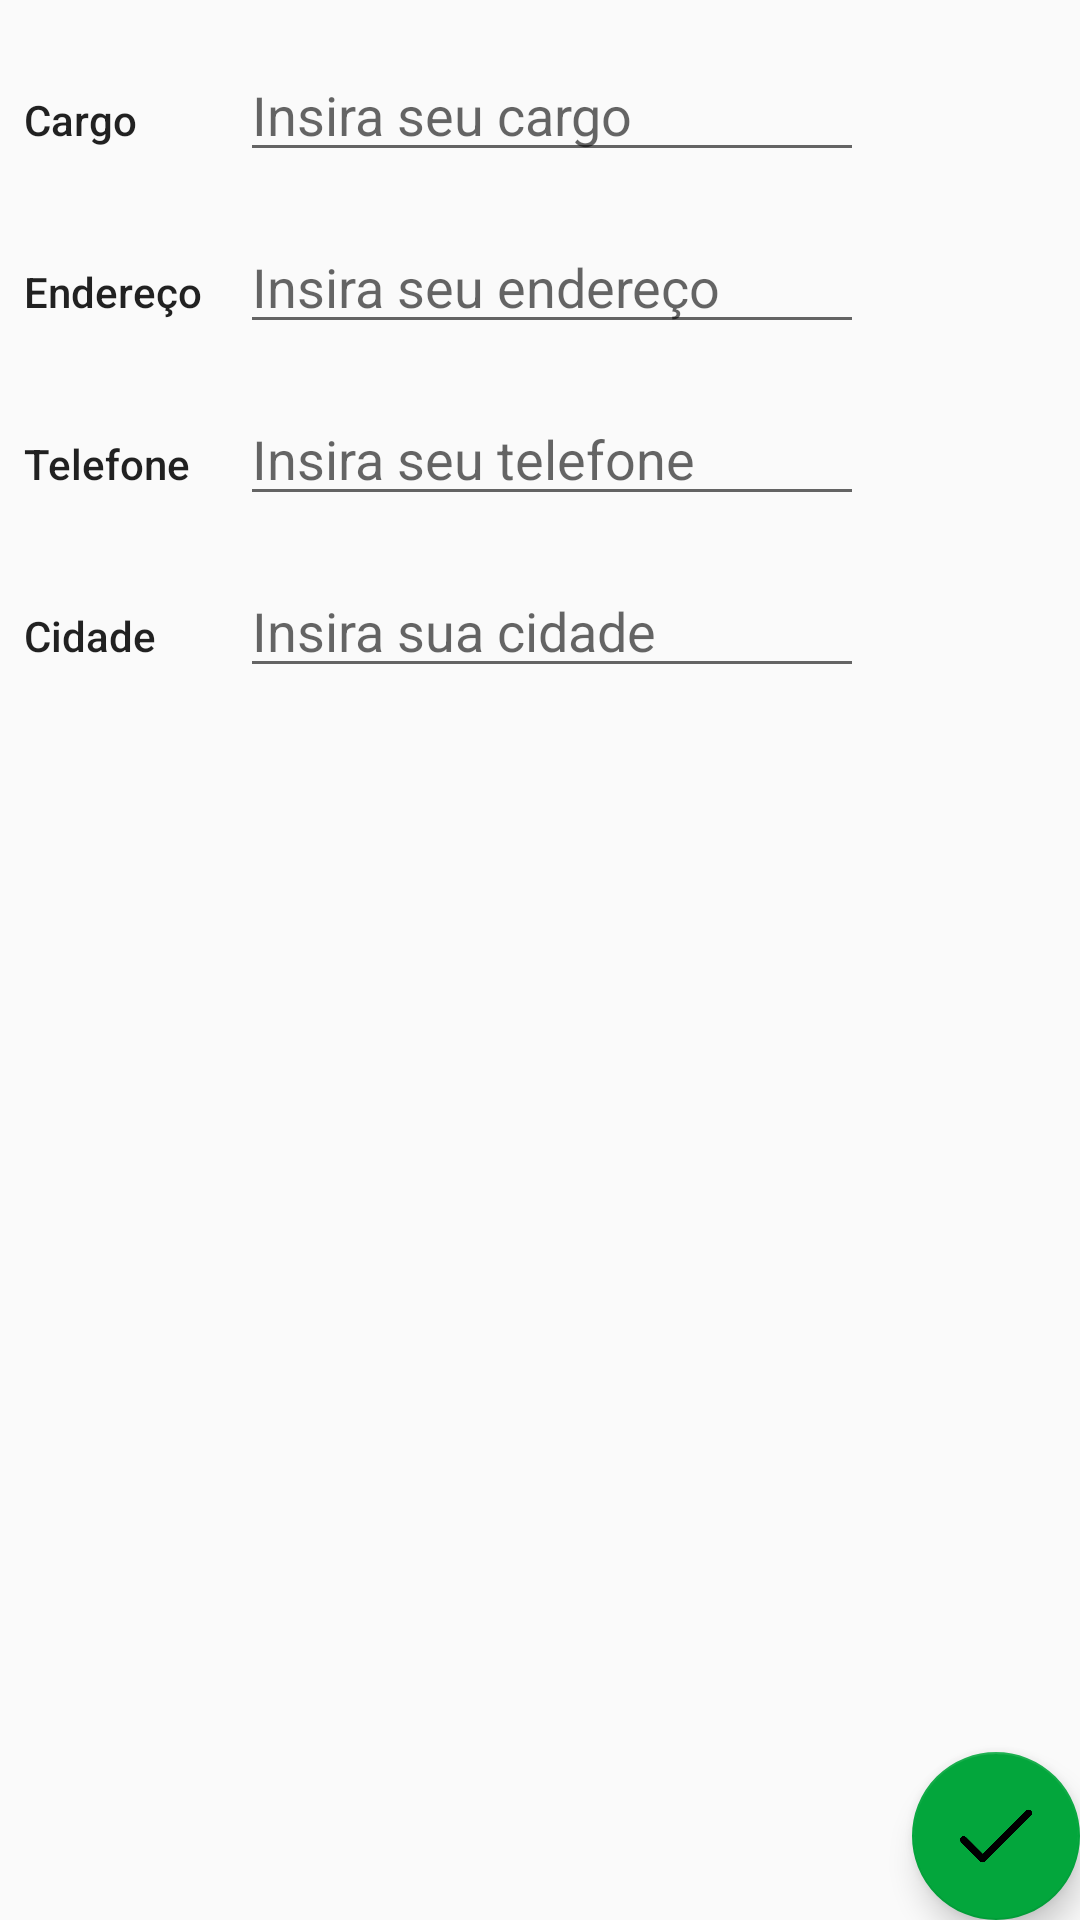

Named icons in this screenshot (1080 × 1920) and their centers, point (x, y):
tick: point (996, 1836)
